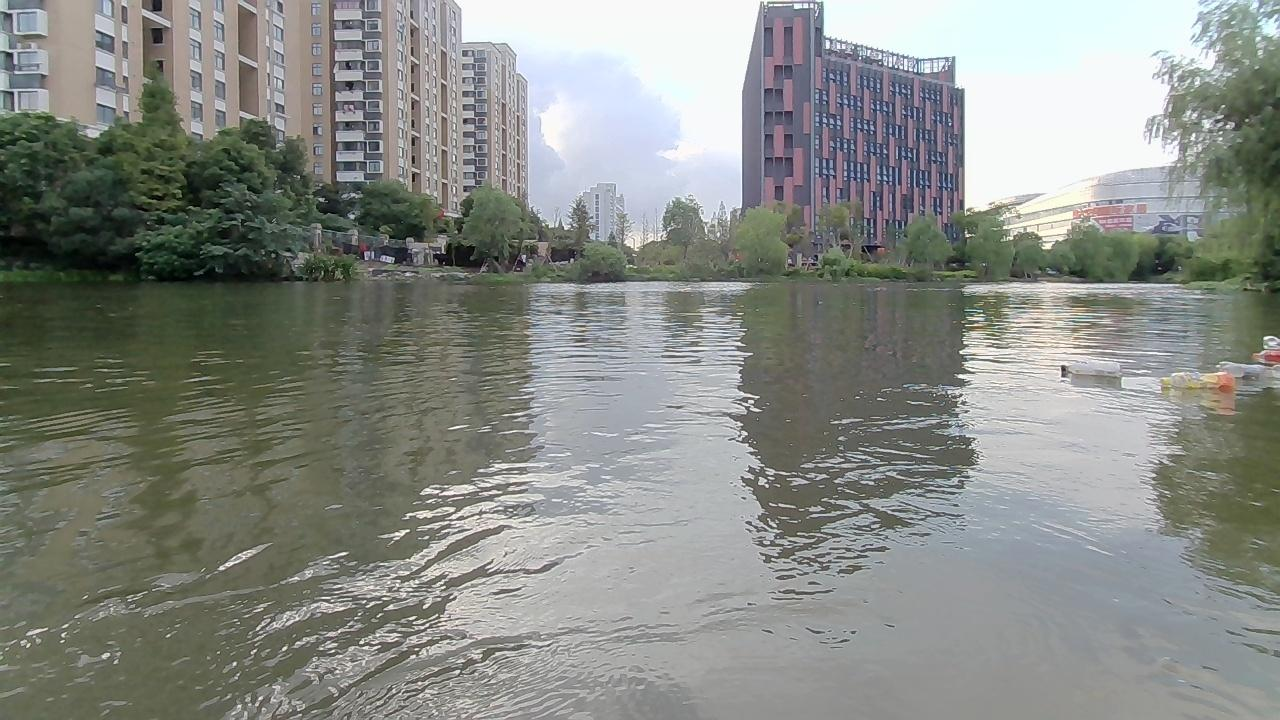bottle: (1156, 367, 1234, 397), (1216, 357, 1279, 387), (1056, 363, 1121, 387), (1256, 349, 1279, 365), (1263, 332, 1279, 350)
